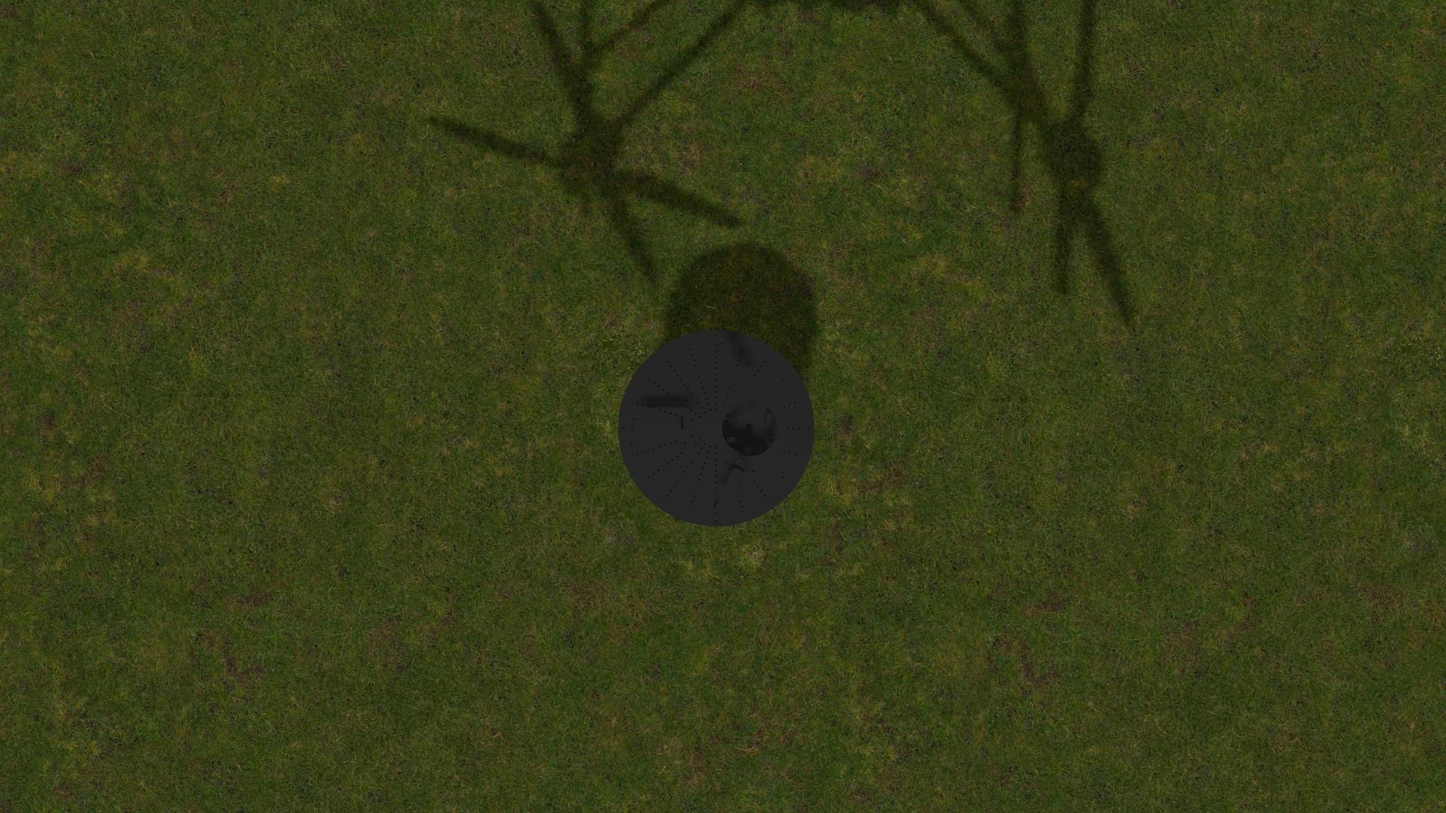alca: (711, 458, 746, 518), (713, 337, 747, 396), (628, 417, 690, 431)
armadilha: (618, 329, 815, 527)
